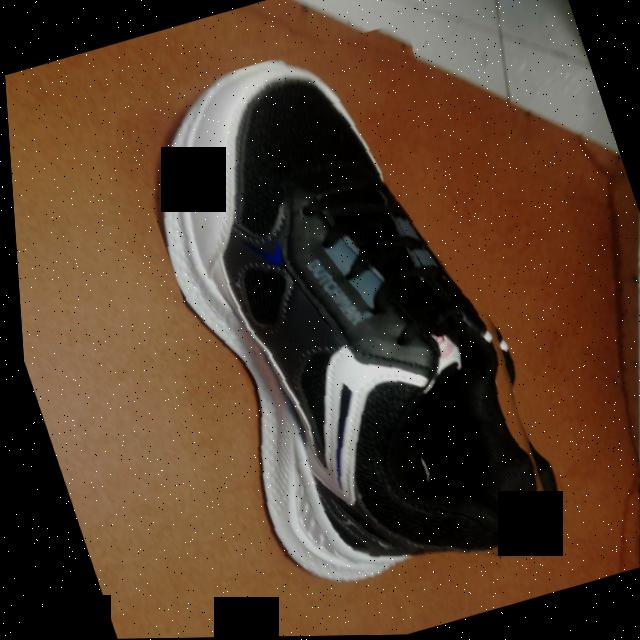shoe: (111, 21, 576, 627)
